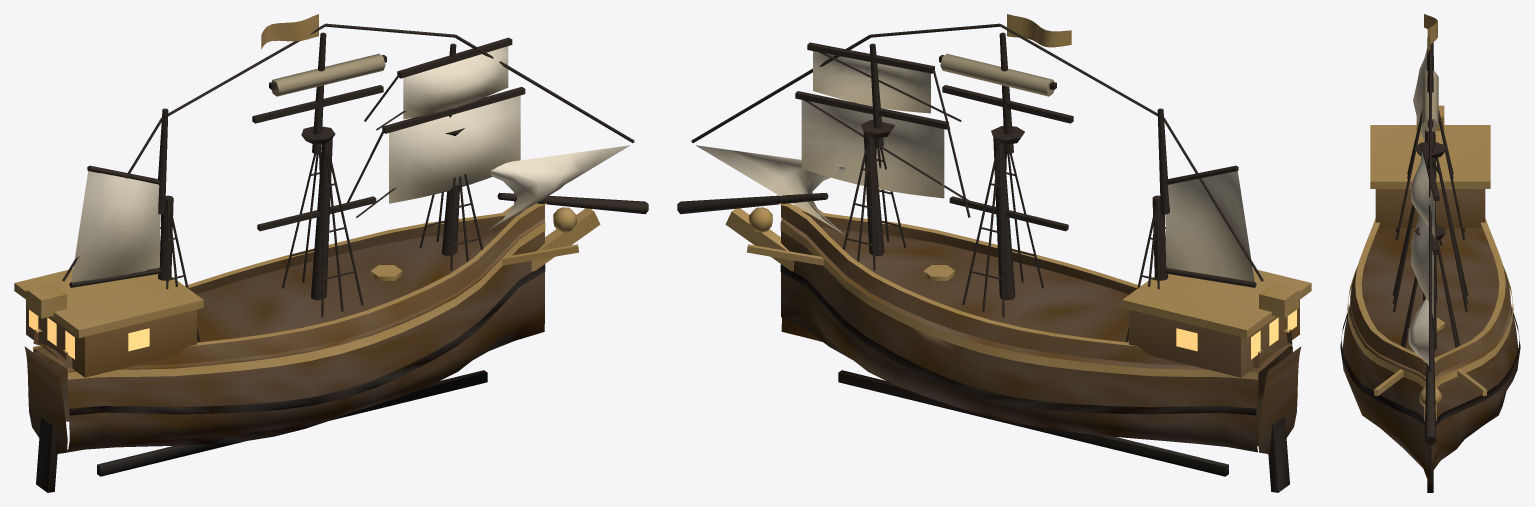
The model's file is garden-hero-heritage.glb.
The picture shows the model from 3 angles, left to right: view 1: azimuth 30°, elevation 25°; view 2: azimuth 150°, elevation 25°; view 3: azimuth 270°, elevation 25°; orthographic projection. The views are drawn at different scales.
Visible parts, largest first — view 1: wood-hull, sail-hull, spar-hull, trim-hull, glow-hull; view 2: wood-hull, sail-hull, spar-hull, trim-hull, glow-hull; view 3: wood-hull, spar-hull, sail-hull, trim-hull.
Part boxes in pixels (x1=…): wood-hull: x1=14, y1=14, x2=600, y2=492; sail-hull: x1=71, y1=46, x2=630, y2=282; spar-hull: x1=62, y1=23, x2=648, y2=342; trim-hull: x1=33, y1=222, x2=545, y2=379; glow-hull: x1=29, y1=309, x2=149, y2=359; wood-hull: x1=725, y1=14, x2=1311, y2=492; sail-hull: x1=695, y1=51, x2=1254, y2=281; spar-hull: x1=677, y1=23, x2=1263, y2=342; trim-hull: x1=780, y1=222, x2=1292, y2=379; glow-hull: x1=1176, y1=309, x2=1296, y2=359; wood-hull: x1=1340, y1=14, x2=1520, y2=492; spar-hull: x1=1392, y1=29, x2=1468, y2=444; sail-hull: x1=1408, y1=48, x2=1438, y2=365; trim-hull: x1=1347, y1=266, x2=1513, y2=387.
Size of the model in its own units: 12.03 by 7.65 by 3.3.
